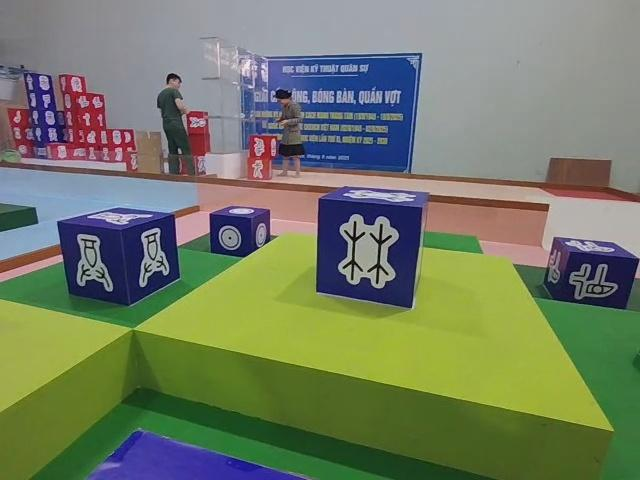R2 Real Blue: (315, 189, 428, 314), (58, 206, 182, 310), (540, 238, 638, 311), (208, 205, 270, 257)
